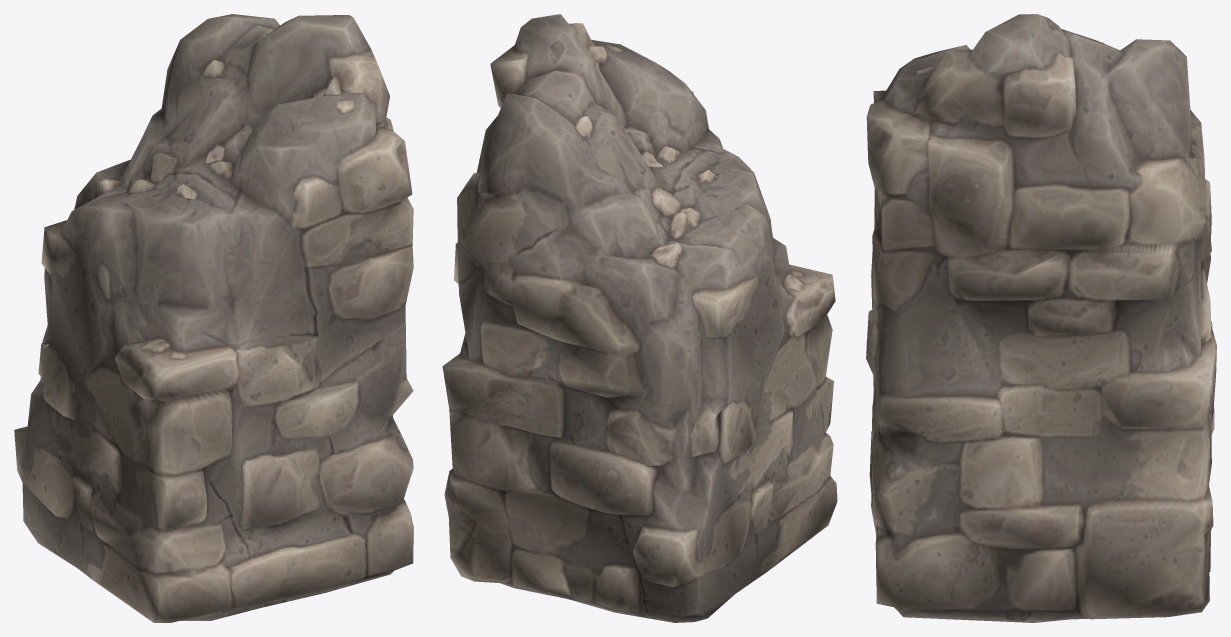
Rendered from Pillar_B_Light.fbx.
The picture shows the model from 3 angles, left to right: view 1: azimuth 30°, elevation 25°; view 2: azimuth 150°, elevation 25°; view 3: azimuth 270°, elevation 25°; orthographic projection. The views are drawn at different scales.
Parts seen in each view (by area): view 1: Dn_HL_UND_Pillars_A_02.001; view 2: Dn_HL_UND_Pillars_A_02.001; view 3: Dn_HL_UND_Pillars_A_02.001.
Part boxes in pixels (bbox=[...]): Dn_HL_UND_Pillars_A_02.001: bbox=[14, 14, 413, 622]; Dn_HL_UND_Pillars_A_02.001: bbox=[442, 14, 837, 622]; Dn_HL_UND_Pillars_A_02.001: bbox=[866, 14, 1216, 622].
Bounding box in the file's own units: 3460 × 6248 × 3368.
